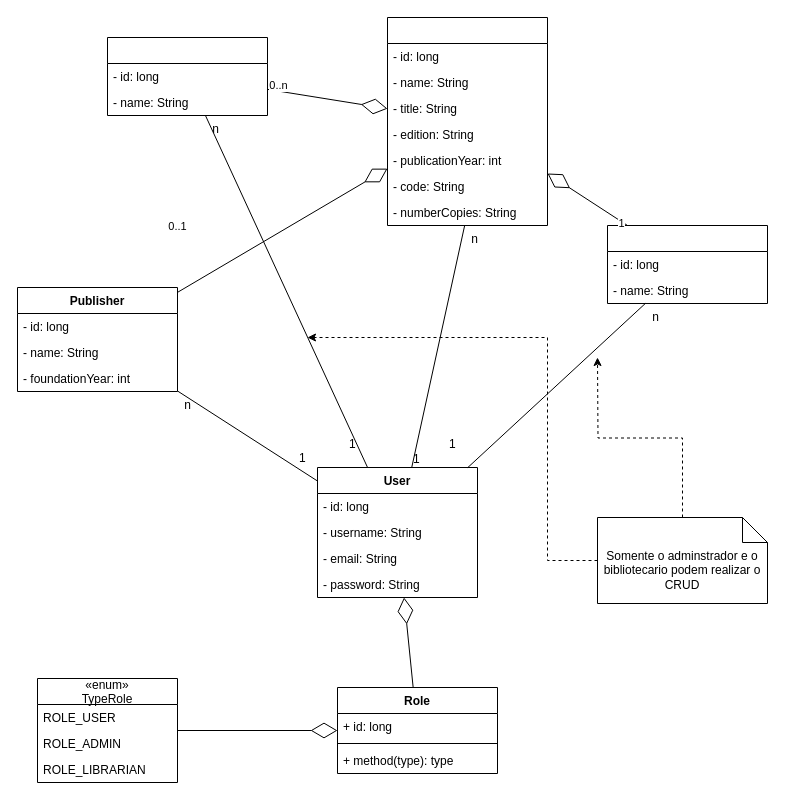
The diagram is 785 pixels wide and 803 high, and some of its shapes have lost their labels. Here are the shapes that lost their labels. From the top down, the box of each, then its label:
(106, 36, 268, 116): Genre
(386, 16, 548, 226): Book
(606, 224, 768, 304): Author
